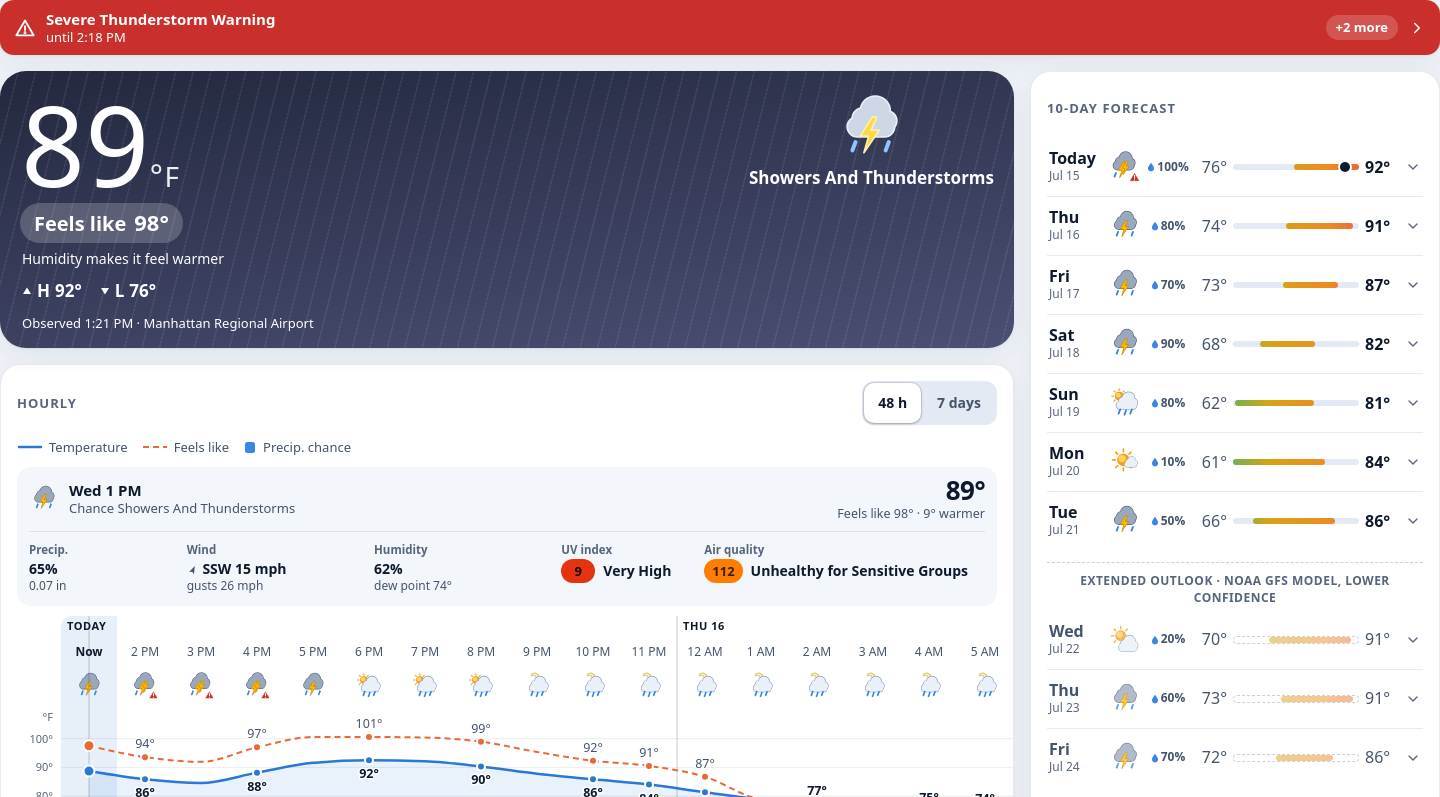
Test case: alerts › opens a sheet listing every alert as plain, reflowed text
This screenshot has width=1440, height=797.
Step 1. Click the button with test id "alert-banner" → (161, 19), box x1=0 y1=0 x2=1439 y2=55
(page scrolled)
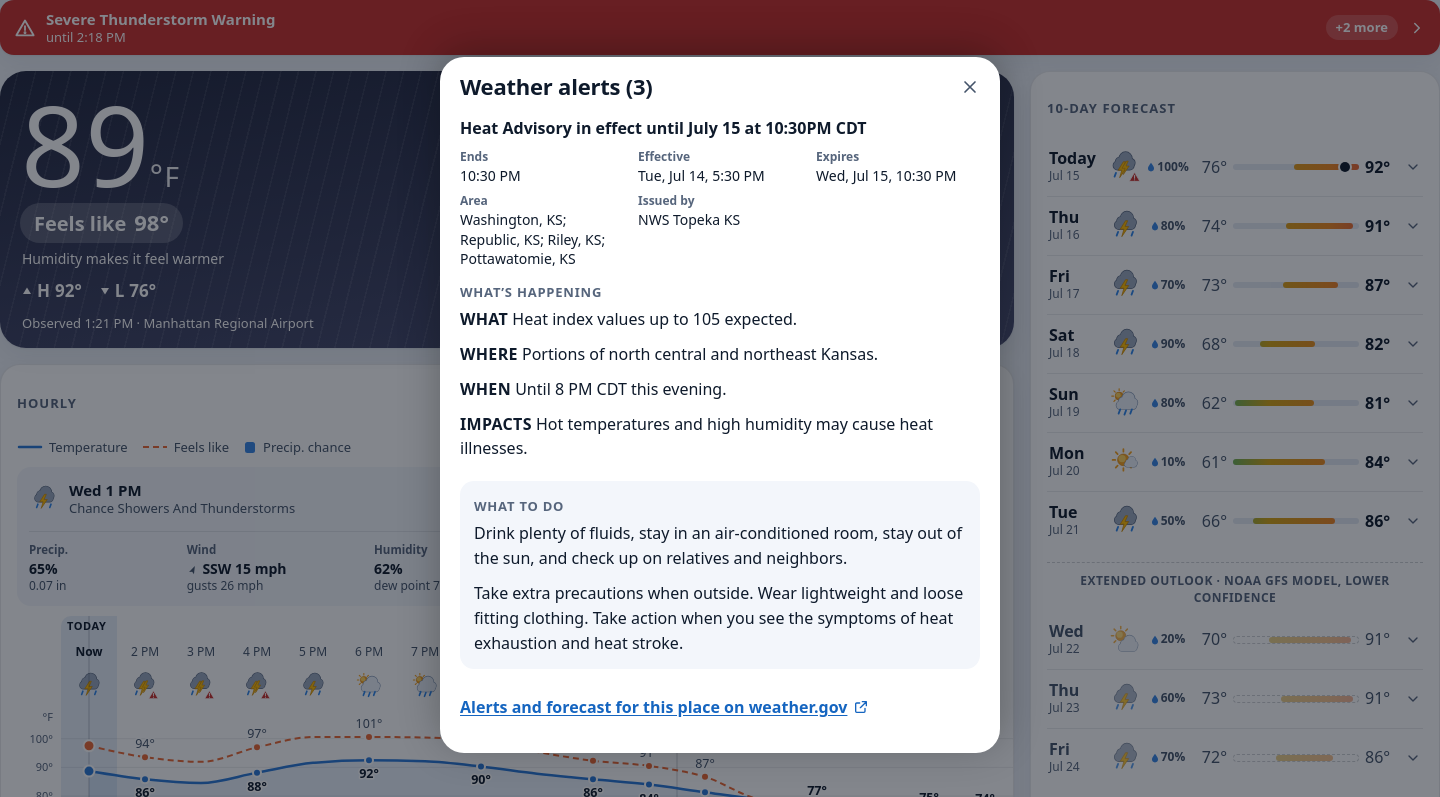
Now the link "Alerts and forecast for this place on weather.gov" is shown, box x1=460 y1=696 x2=869 y2=718
